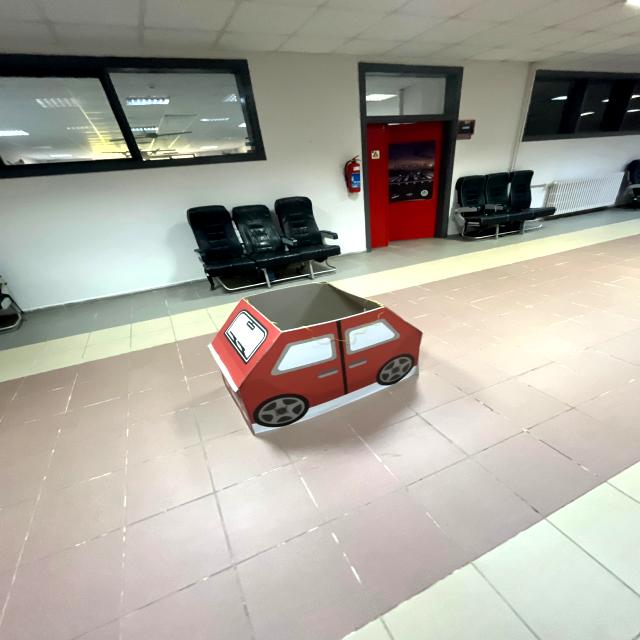red_car: (198, 275, 434, 440)
